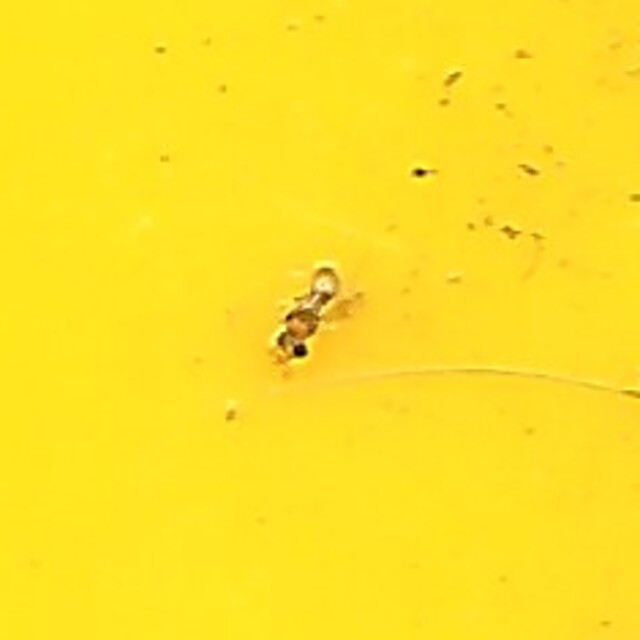Hymenoptera: (272, 266, 368, 374)
